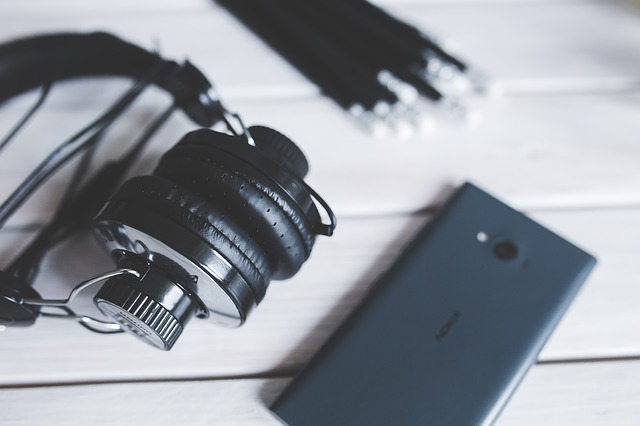headphones: (1, 31, 322, 351)
